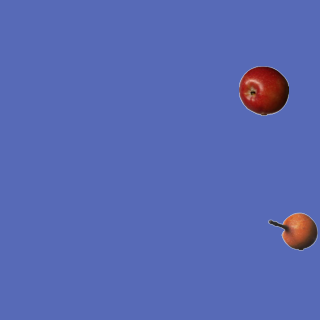Apple Braeburn: (238, 65, 288, 115)
Granadilla: (267, 206, 317, 256)
